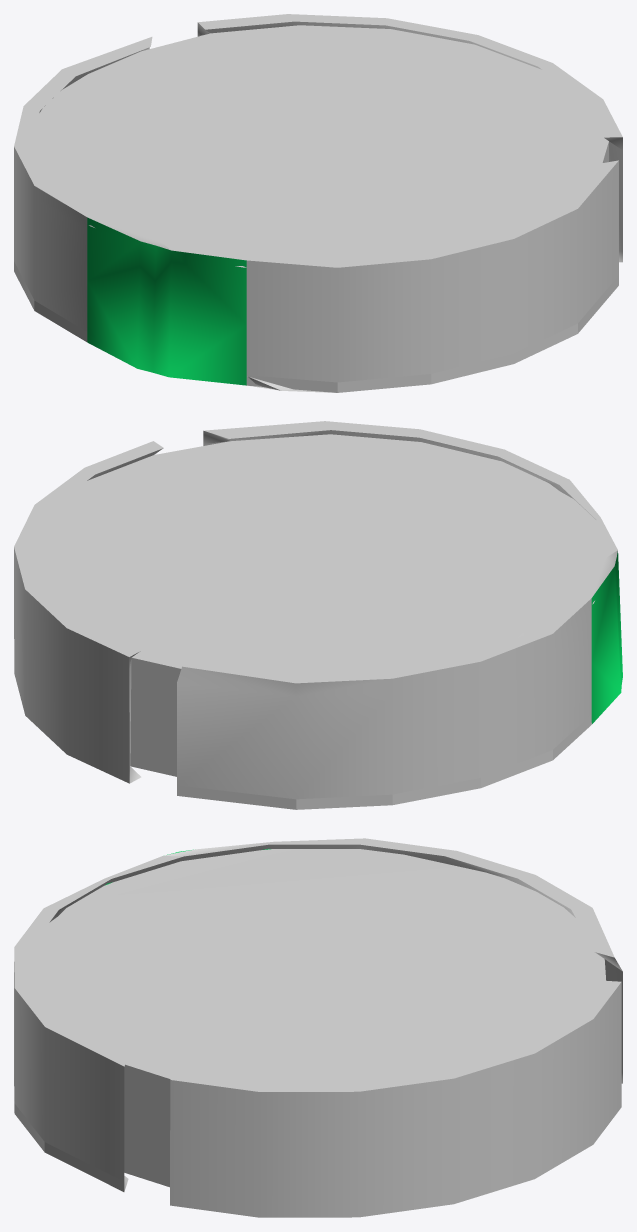
File: cleanbot4.obj
3 renders of one model, top to bottom at view 1: azimuth 30°, elevation 25°; view 2: azimuth 150°, elevation 25°; view 3: azimuth 270°, elevation 25°, orthographic.
Visible parts, largest first — view 1: cleanbot4; view 2: cleanbot4; view 3: cleanbot4.
Part boxes in pixels (x1,y1,x2,y2): cleanbot4: (14, 14, 622, 392); cleanbot4: (14, 421, 622, 809); cleanbot4: (14, 838, 622, 1217).
Bounding box in the file's own units: 0.9009 × 0.2114 × 0.916.
